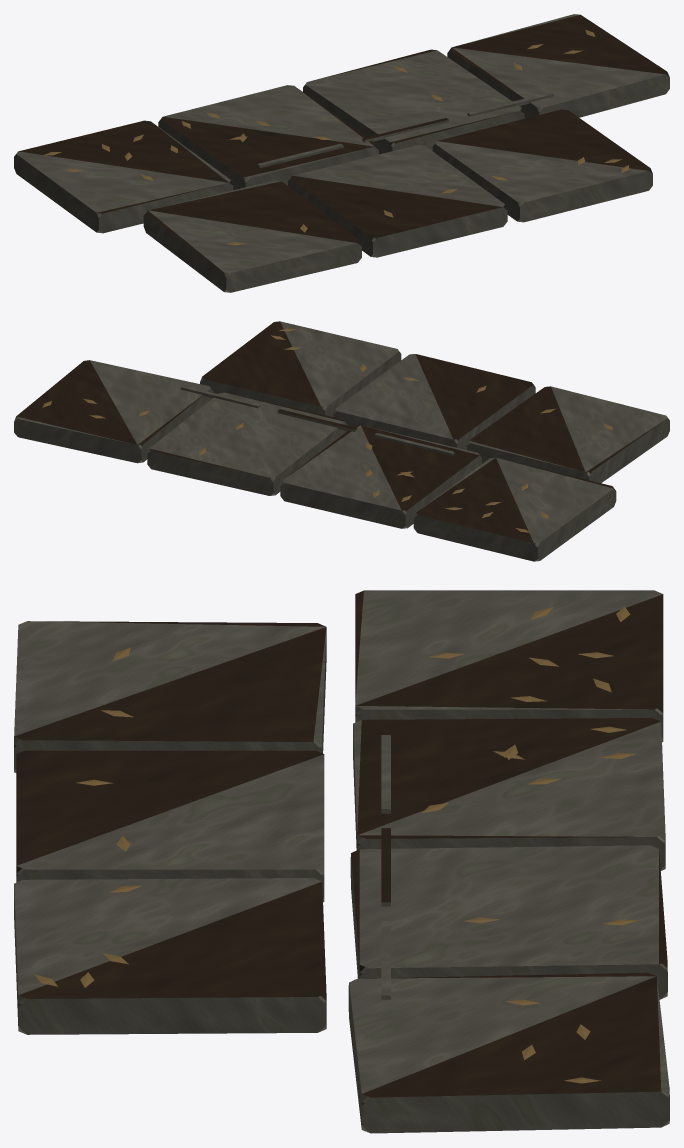
File: trail_transition-lod2.gltf
3 renders of one model, top to bottom at view 1: azimuth 30°, elevation 25°; view 2: azimuth 150°, elevation 25°; view 3: azimuth 270°, elevation 25°, orthographic. The views are drawn at different scales.
Visible parts, largest first — view 1: trail_transition LOD2 trail_transition, trail_transition LOD2 trail_transition litter; view 2: trail_transition LOD2 trail_transition, trail_transition LOD2 trail_transition litter; view 3: trail_transition LOD2 trail_transition, trail_transition LOD2 trail_transition litter.
Part boxes in pixels (x1=…): trail_transition LOD2 trail_transition: x1=14, y1=14, x2=669, y2=292; trail_transition LOD2 trail_transition litter: x1=43, y1=29, x2=629, y2=245; trail_transition LOD2 trail_transition: x1=14, y1=321, x2=669, y2=561; trail_transition LOD2 trail_transition litter: x1=42, y1=328, x2=613, y2=532; trail_transition LOD2 trail_transition: x1=14, y1=590, x2=669, y2=1133; trail_transition LOD2 trail_transition litter: x1=34, y1=606, x2=638, y2=1083.
Size of the model in its own units: 2.73 by 0.101 by 1.49.
Materials: 3 (2 with a texture image).
